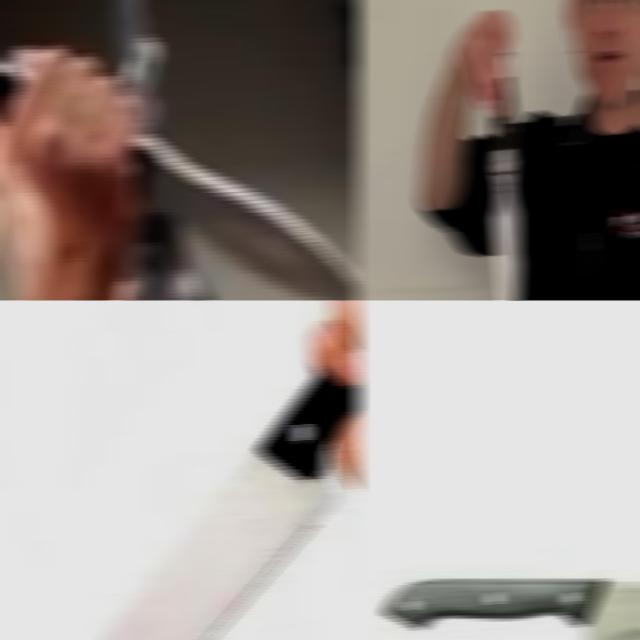Knife: (99, 371, 361, 640), (128, 136, 361, 300), (383, 579, 640, 640)
Knife_Handle: (0, 300, 361, 640), (0, 61, 361, 300), (455, 9, 521, 300)
